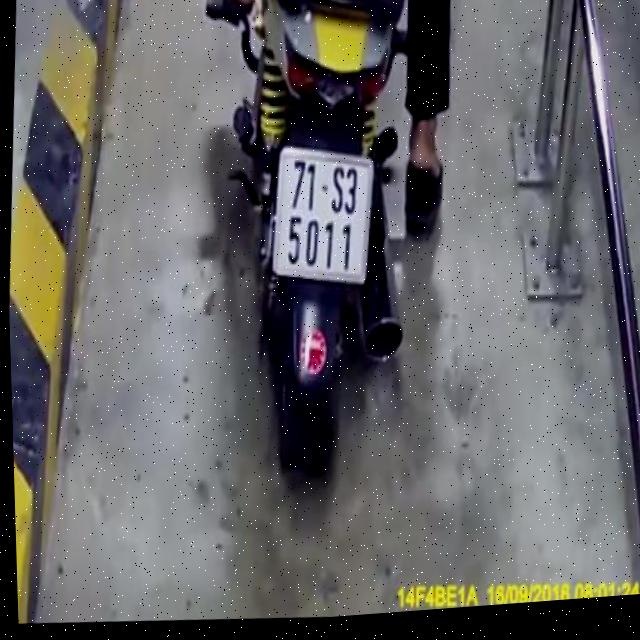motorcycle: (175, 0, 479, 513)
plate: (258, 135, 382, 298)
